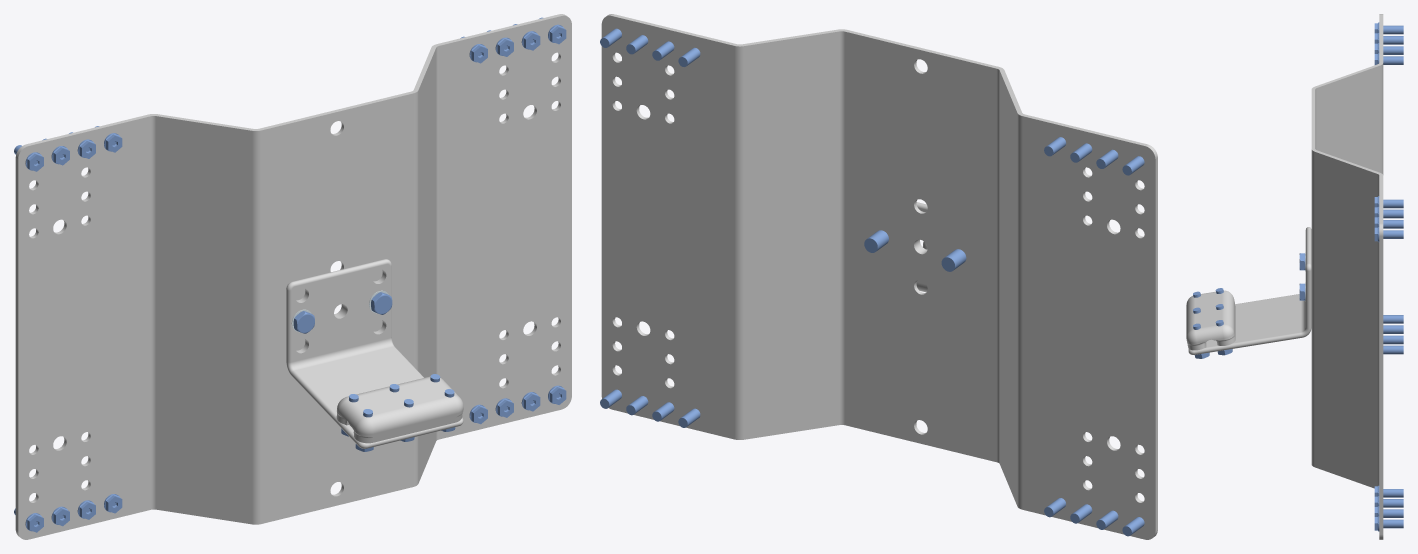
The model's file is Mini_Omega.glb.
3 renders of one model, left to right at view 1: azimuth 30°, elevation 25°; view 2: azimuth 150°, elevation 25°; view 3: azimuth 270°, elevation 25°, orthographic. The views are drawn at different scales.
Parts seen in each view (by area): view 1: 20220830_OMEGA_MINI, Platin_NewPro, Matrice_NewPro; view 2: 20220830_OMEGA_MINI; view 3: 20220830_OMEGA_MINI, Platin_NewPro, Matrice_NewPro, boulon (×5).
Part boxes in pixels (box(x1,y1,x2,y2)): 20220830_OMEGA_MINI: box(15, 14, 571, 539); Platin_NewPro: box(286, 259, 463, 448); Matrice_NewPro: box(336, 376, 463, 443); 20220830_OMEGA_MINI: box(601, 14, 1157, 539); 20220830_OMEGA_MINI: box(1311, 14, 1383, 539); Platin_NewPro: box(1188, 227, 1311, 354); Matrice_NewPro: box(1186, 290, 1235, 350); boulon (×5): box(1374, 22, 1403, 531).
Bounding box in the file's own units: 0.53 × 0.36 × 0.2244.
